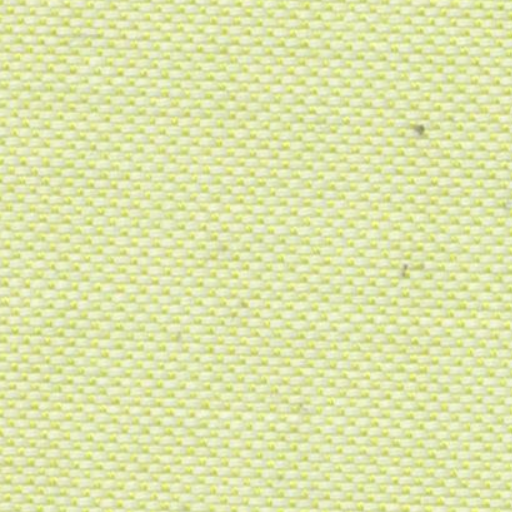WuZi: (396, 106, 448, 154), (392, 250, 416, 286)
